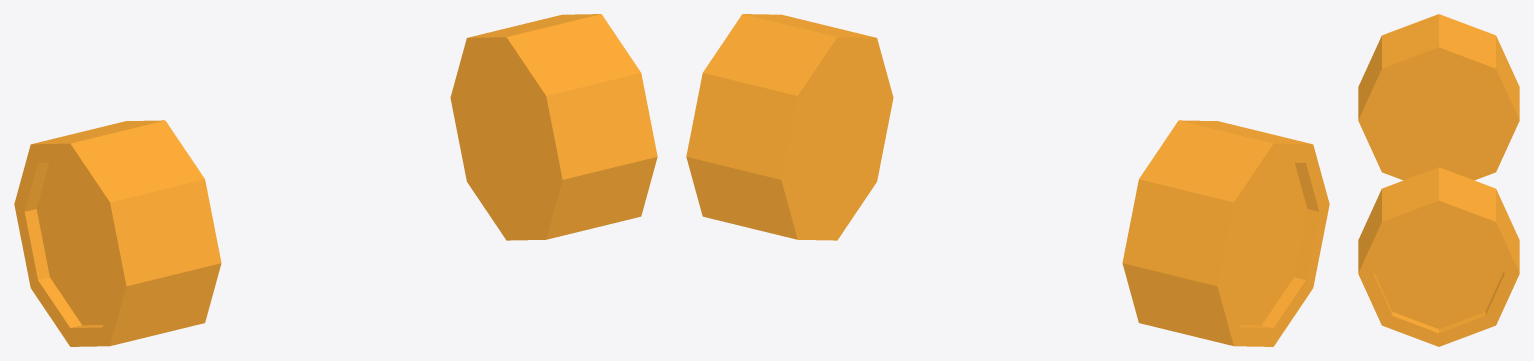
File: bulldozer-wheel_F.glb
The picture shows the model from 3 angles, left to right: view 1: azimuth 30°, elevation 25°; view 2: azimuth 150°, elevation 25°; view 3: azimuth 270°, elevation 25°; orthographic projection. The views are drawn at different scales.
Parts seen in each view (by area): view 1: bulldozer-wheel_F; view 2: bulldozer-wheel_F; view 3: bulldozer-wheel_F.
Boxes of the visible parts, box(x1,y1,x2,y2) form: bulldozer-wheel_F: box(14, 14, 657, 346); bulldozer-wheel_F: box(686, 14, 1329, 346); bulldozer-wheel_F: box(1358, 14, 1519, 346).
Size of the model in its own units: 1.79 by 0.6544 by 0.6544.
1 material, 1 textured.
